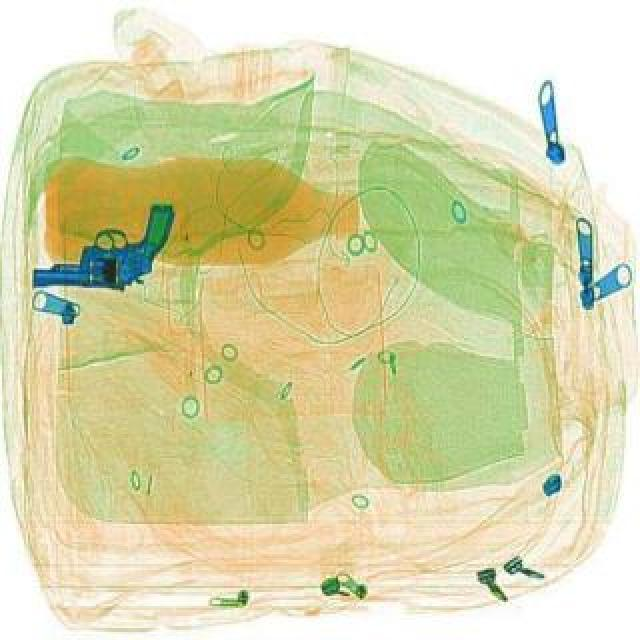gun: (24, 182, 202, 328)
